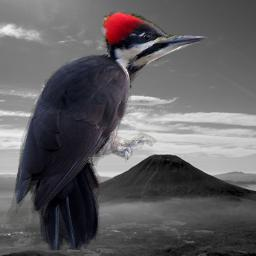Woodpecker: (6, 10, 209, 250)
